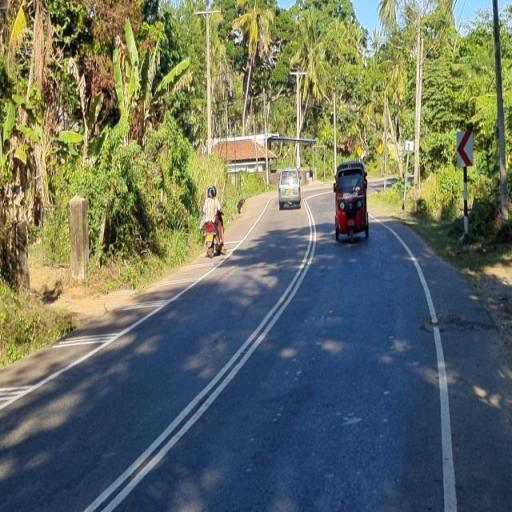double_white_line: (79, 192, 322, 511)
